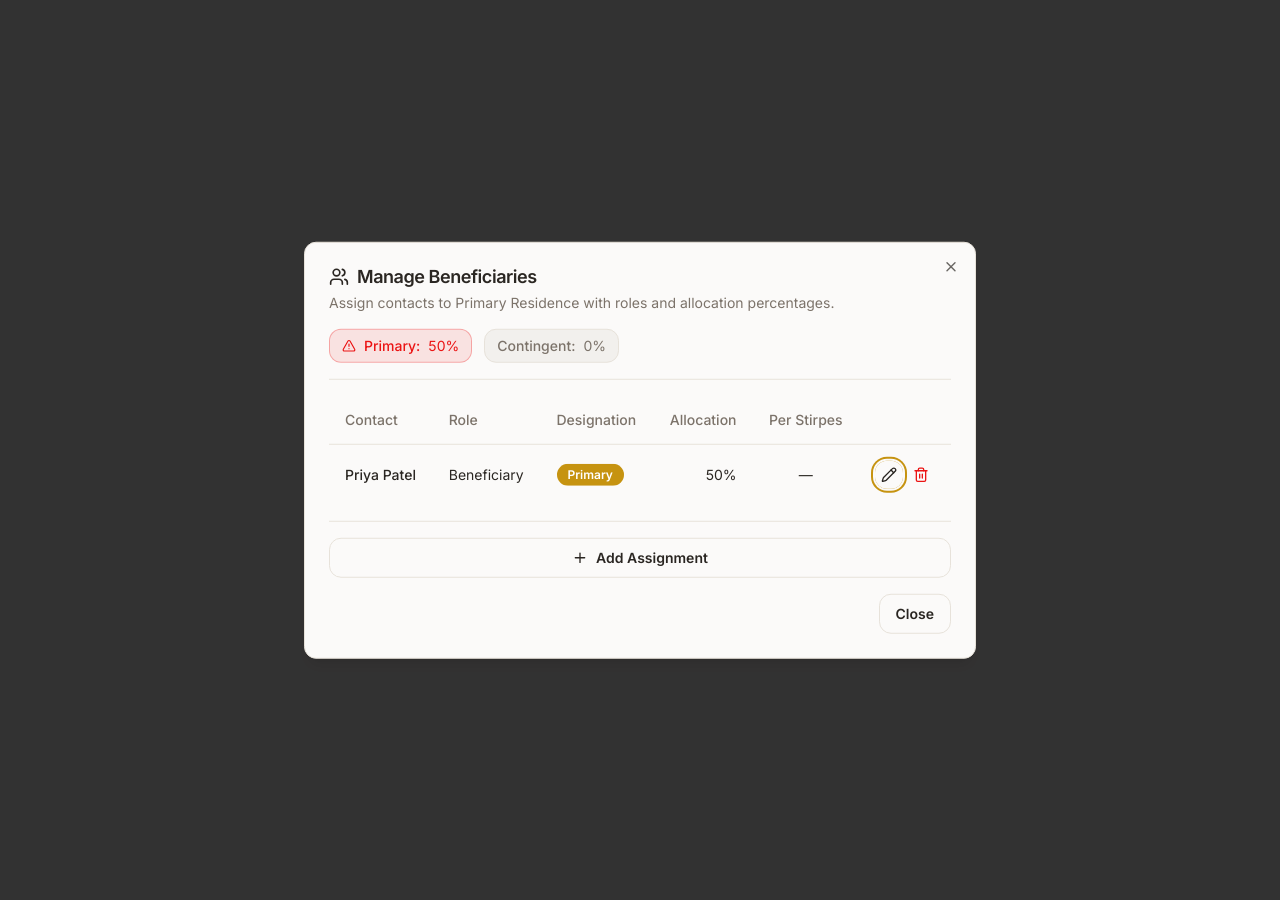
Test: BeneficiaryAssignmentDialog — Edit Assignment › enters edit mode when edit button is clicked
This screenshot has width=1280, height=900.
Step 1. Click the button named "Edit assignment" → point(889, 474), box [875,460,903,488]
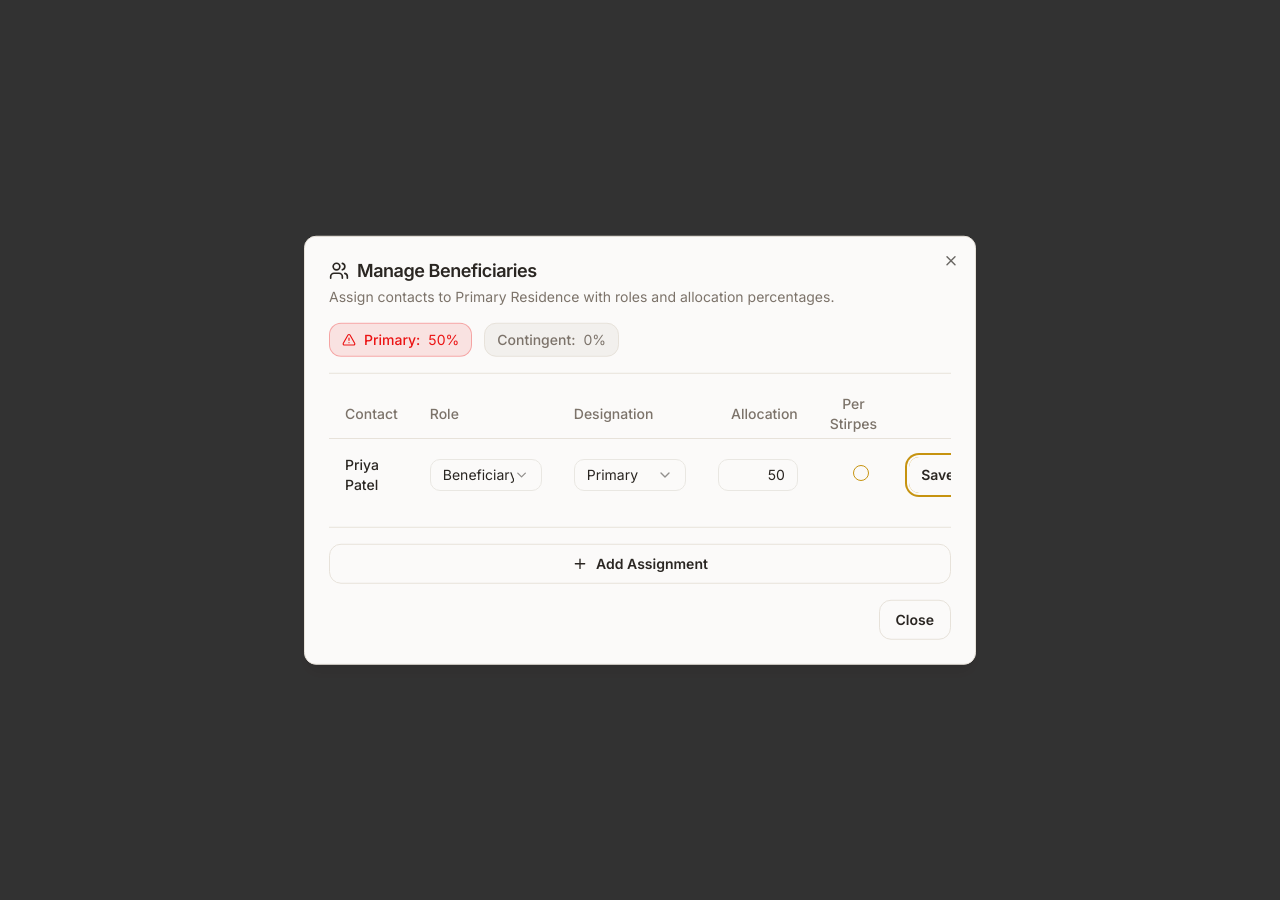
Check: the button "Save" is shown, box [909,456,951,492]
